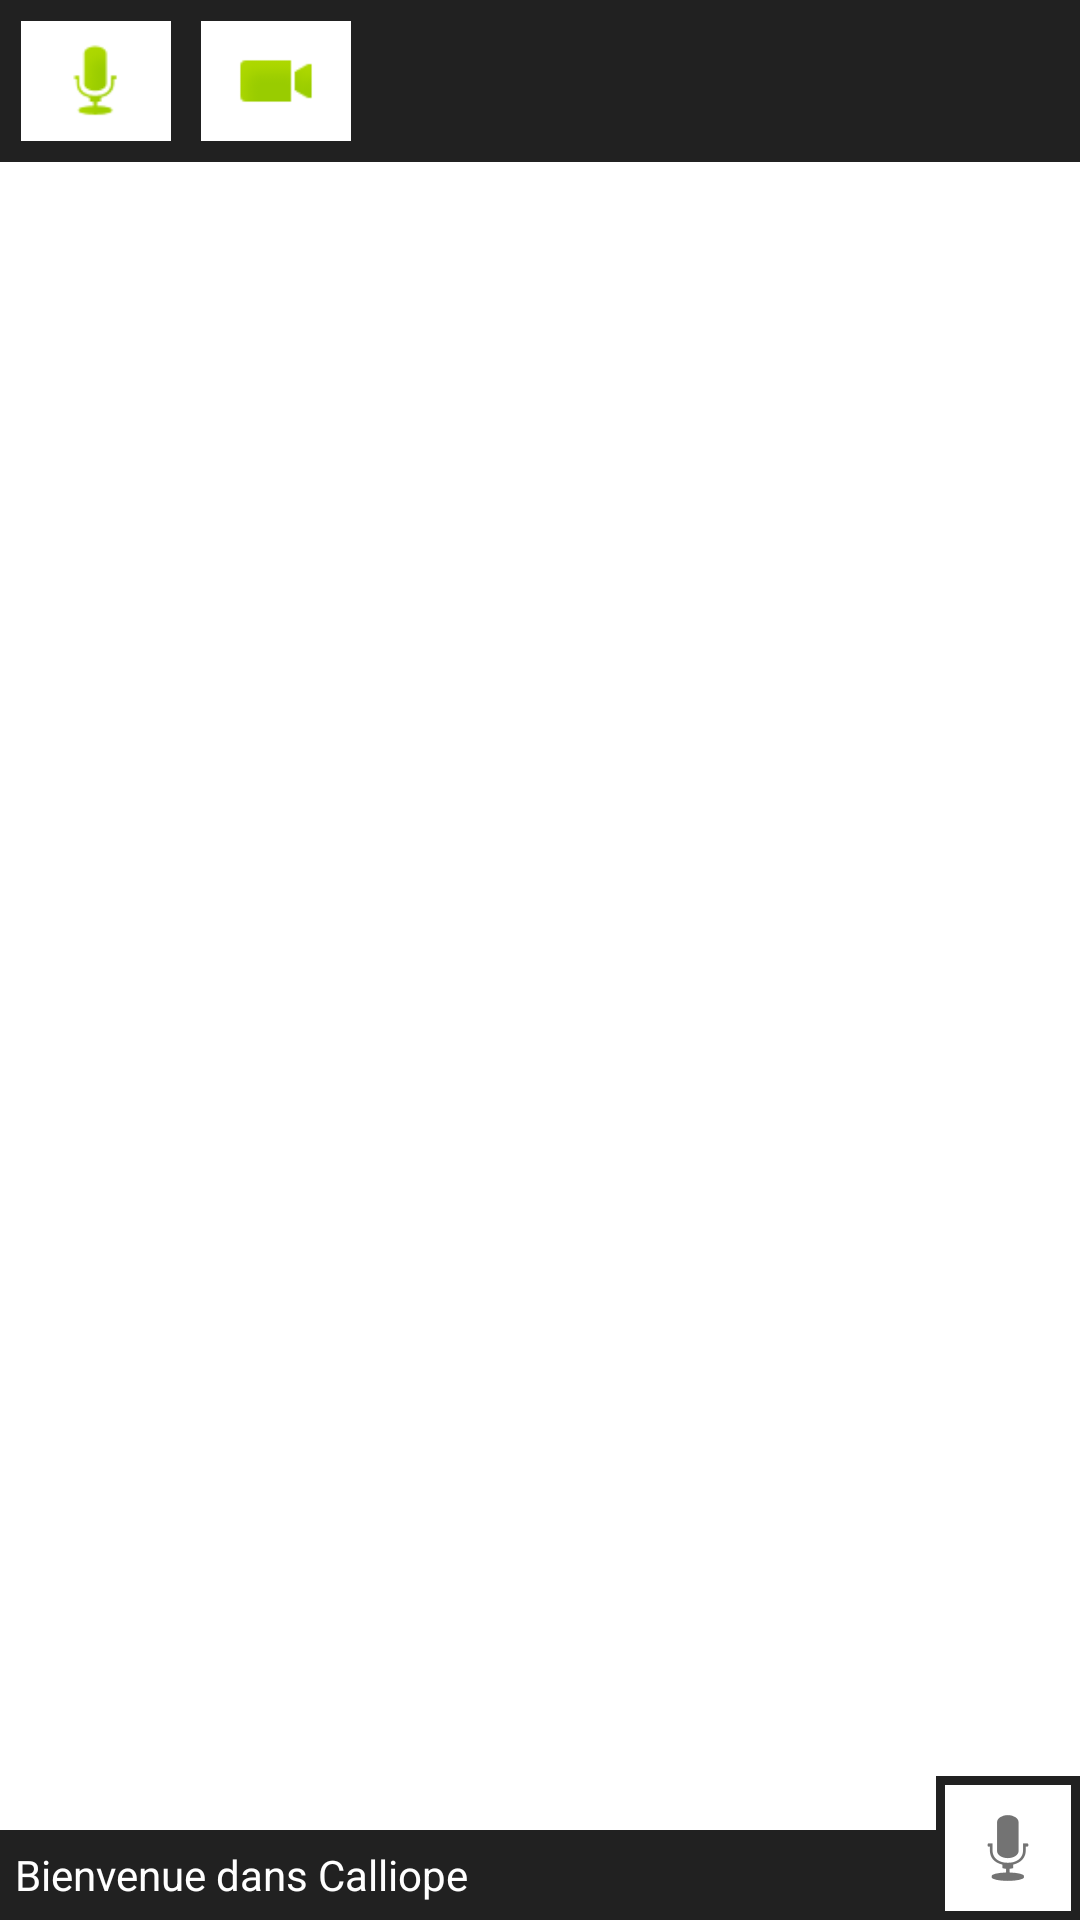

Where icons sit on this 1080x1920 app screen, as box=[x1, y1, x2, y2]:
presence audio online: box=[21, 21, 171, 141]
presence video online: box=[201, 21, 351, 141]
speak now: box=[945, 1785, 1071, 1911]
